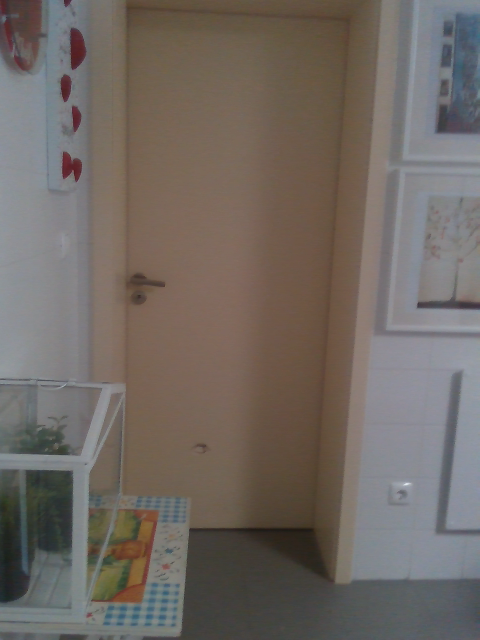closed: (92, 7, 396, 592)
